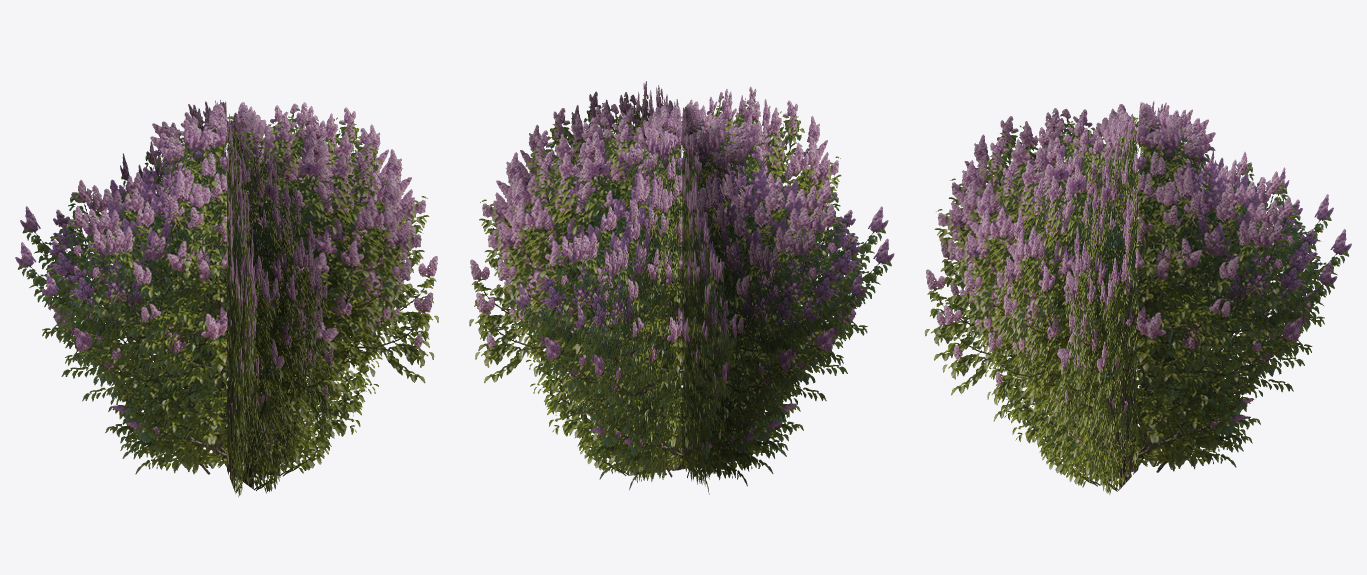
Rendered from bush4.fbx.
3 renders of one model, left to right at view 1: azimuth 30°, elevation 25°; view 2: azimuth 150°, elevation 25°; view 3: azimuth 270°, elevation 25°, orthographic.
Parts seen in each view (by area): view 1: bush4; view 2: bush4; view 3: bush4.
Part boxes in pixels (x1,y1,x2,y2): bush4: (15, 100, 438, 497); bush4: (469, 81, 894, 494); bush4: (924, 101, 1351, 494).
Size of the model in its own units: 45.52 by 42.83 by 45.52.
Materials: 1 (1 with a texture image).
